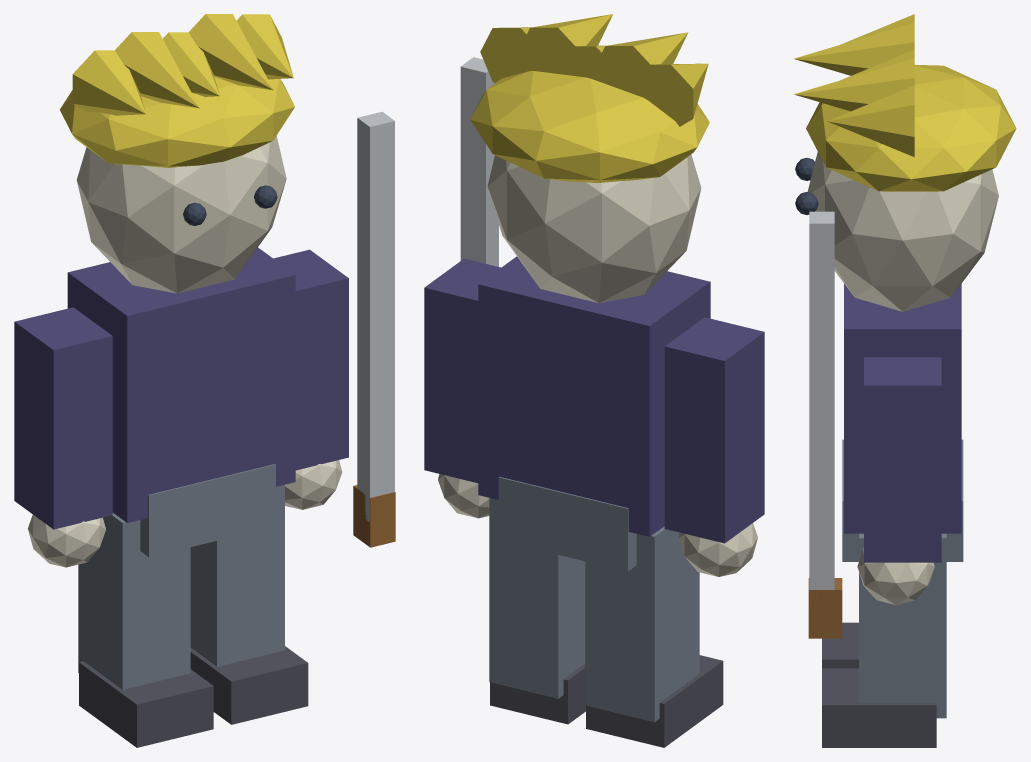
The model's file is cloud.glb.
3 renders of one model, left to right at view 1: azimuth 30°, elevation 25°; view 2: azimuth 150°, elevation 25°; view 3: azimuth 270°, elevation 25°, orthographic. The views are drawn at different scales.
Visible parts, largest first — view 1: part_000, part_010, part_002, part_004, part_020, part_013, part_008, part_006, part_001, part_005, part_009, part_014 (+7 smaller); view 2: part_000, part_010, part_002, part_013, part_004, part_008, part_006, part_001, part_020, part_005, part_017, part_015 (+6 smaller); view 3: part_010, part_006, part_013, part_000, part_008, part_020, part_009, part_018, part_015, part_017, part_007, part_019 (+3 smaller).
Boxes of the visible parts, bbox=[...] form: part_000: bbox=[67, 247, 295, 522]; part_010: bbox=[76, 136, 286, 293]; part_002: bbox=[14, 307, 112, 529]; part_004: bbox=[78, 513, 190, 689]; part_020: bbox=[357, 111, 394, 522]; part_013: bbox=[59, 76, 294, 167]; part_008: bbox=[190, 484, 284, 666]; part_006: bbox=[273, 249, 348, 470]; part_001: bbox=[140, 464, 275, 557]; part_005: bbox=[79, 661, 213, 747]; part_009: bbox=[190, 646, 308, 724]; part_014: bbox=[72, 50, 145, 115]; part_000: bbox=[478, 256, 710, 536]; part_010: bbox=[487, 154, 701, 303]; part_002: bbox=[664, 317, 764, 543]; part_013: bbox=[470, 71, 709, 183]; part_004: bbox=[585, 526, 699, 722]; part_008: bbox=[489, 498, 585, 698]; part_006: bbox=[424, 258, 500, 483]; part_001: bbox=[498, 476, 636, 571]; part_020: bbox=[460, 57, 498, 266]; part_005: bbox=[586, 655, 723, 747]; part_017: bbox=[518, 14, 612, 76]; part_015: bbox=[593, 32, 688, 102]; part_010: bbox=[807, 151, 998, 311]; part_006: bbox=[864, 357, 941, 562]; part_013: bbox=[806, 65, 1016, 191]; part_000: bbox=[844, 284, 961, 533]; part_008: bbox=[859, 533, 946, 718]; part_020: bbox=[809, 211, 834, 596]; part_009: bbox=[822, 668, 936, 747]; part_018: bbox=[827, 85, 914, 156]; part_015: bbox=[793, 22, 914, 75]; part_017: bbox=[794, 58, 914, 111]; part_007: bbox=[857, 548, 934, 605]; part_019: bbox=[808, 578, 842, 638].
Size of the model in its own units: 1.08 by 2.17 by 0.6628.
